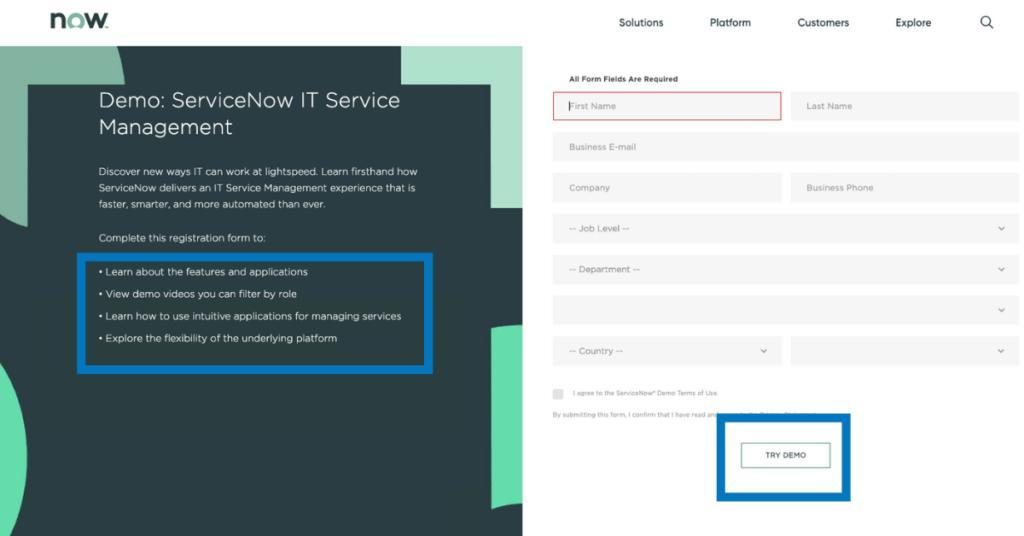button: (740, 442, 832, 470)
checkbox: (553, 389, 565, 401)
dropdown: (552, 212, 1021, 247), (553, 254, 1022, 286), (553, 295, 1021, 326), (790, 335, 1021, 367), (554, 336, 784, 368)
icon: (981, 15, 994, 31)
input: (553, 129, 1021, 165), (552, 172, 783, 205), (792, 172, 1021, 204), (790, 91, 1021, 122), (553, 92, 784, 122)
label: (99, 89, 409, 142), (572, 389, 721, 398), (569, 73, 680, 84), (551, 412, 707, 419), (795, 17, 852, 30), (618, 16, 666, 28), (895, 18, 933, 30), (710, 17, 754, 27)
